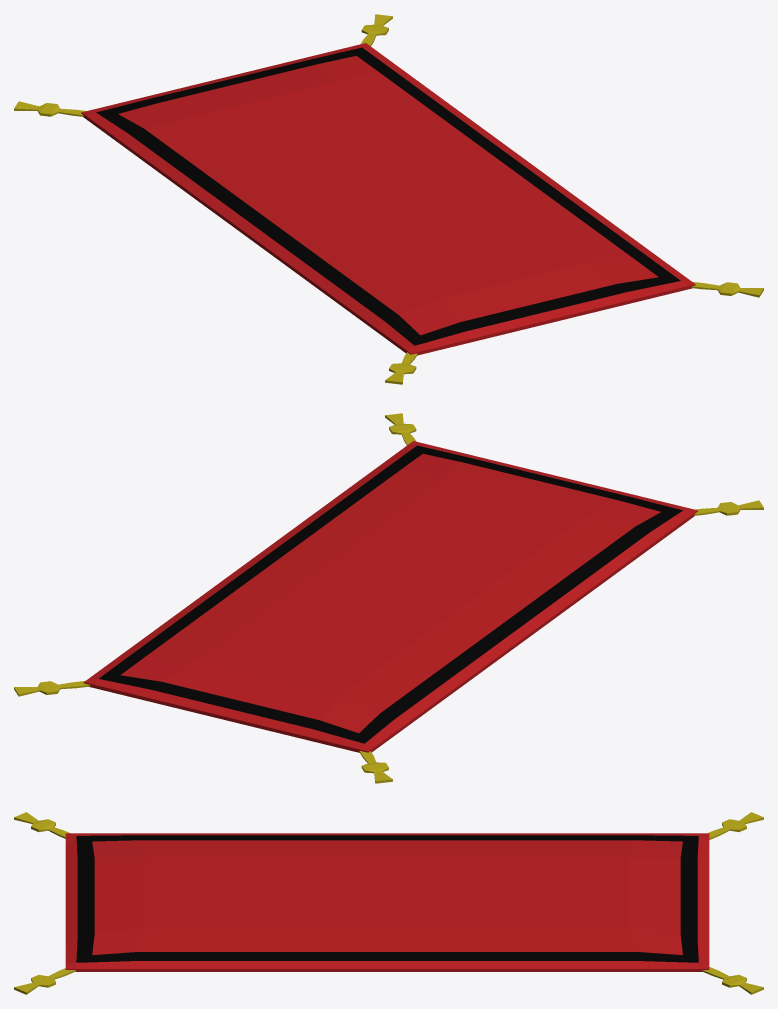
File: Carpet1x2.glb
3 views of the same model, one above another, from view 1: azimuth 30°, elevation 25°; view 2: azimuth 150°, elevation 25°; view 3: azimuth 270°, elevation 25° (orthographic). The views are drawn at different scales.
Parts seen in each view (by area): view 1: Cube; view 2: Cube; view 3: Cube.
Part boxes in pixels (box(x1,y1,x2,y2)): Cube: box(14, 14, 763, 384); Cube: box(14, 413, 763, 783); Cube: box(14, 812, 763, 994).
Size of the model in its own units: 1.33 by 0.0426 by 2.33.
